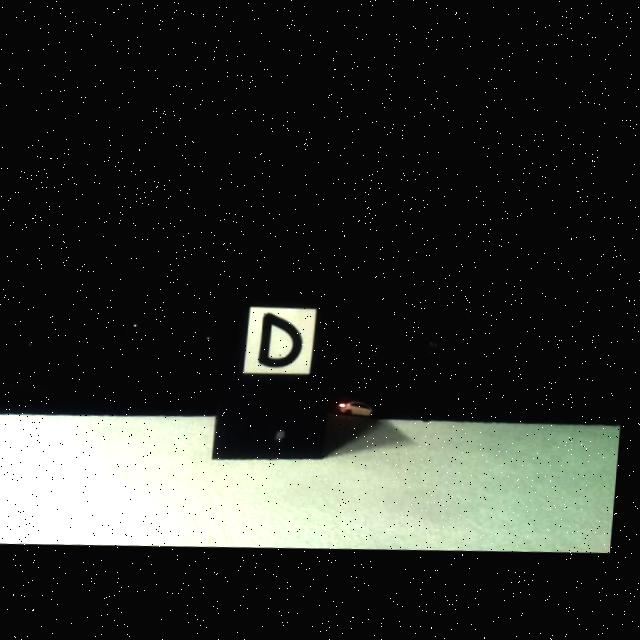D: (260, 315, 305, 371)
